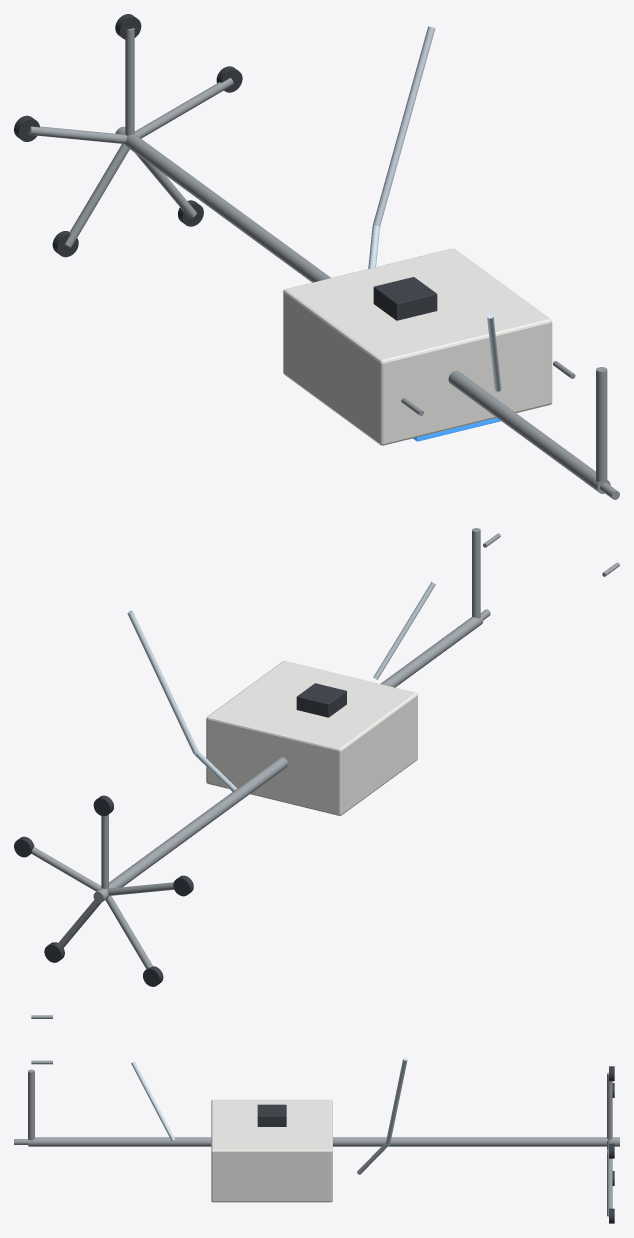
File: infusion_ward_iv_station.glb
3 renders of one model, top to bottom at view 1: azimuth 30°, elevation 25°; view 2: azimuth 150°, elevation 25°; view 3: azimuth 270°, elevation 25°, orthographic. The views are drawn at different scales.
Parts seen in each view (by area): view 1: pump, pole, clamp, tube_c, gantry, baseleg2, baseleg4, baseleg0, baseleg1, baseleg3; view 2: pump, pole, clamp, tube_c, gantry, baseleg2, drip, baseleg4; view 3: pump, pole, clamp, gantry, tube_c, drip, baseleg0, baseleg3.
Boxes of the visible parts, x1,y1,x2,y2 form: pump: (283, 248, 552, 445); pole: (115, 126, 610, 493); clamp: (373, 277, 437, 320); tube_c: (373, 26, 435, 226); gantry: (596, 367, 607, 483); baseleg2: (65, 144, 129, 247); baseleg4: (134, 77, 233, 138); baseleg0: (125, 28, 134, 135); baseleg1: (28, 126, 126, 143); baseleg3: (135, 153, 196, 218); pump: (206, 661, 417, 815); pole: (93, 616, 483, 902); clamp: (296, 683, 346, 717); tube_c: (127, 610, 198, 753); gantry: (472, 528, 480, 618); baseleg2: (105, 896, 152, 969); drip: (373, 581, 435, 679); baseleg4: (31, 847, 101, 891); pump: (211, 1099, 332, 1202); pole: (28, 1137, 619, 1146); clamp: (257, 1104, 286, 1126); gantry: (28, 1069, 34, 1140); tube_c: (385, 1057, 407, 1144); drip: (131, 1061, 174, 1140); baseleg0: (607, 1072, 612, 1139); baseleg3: (607, 1152, 612, 1216).
Bounding box in the file's own units: 0.7834 × 0.7096 × 2.09.
